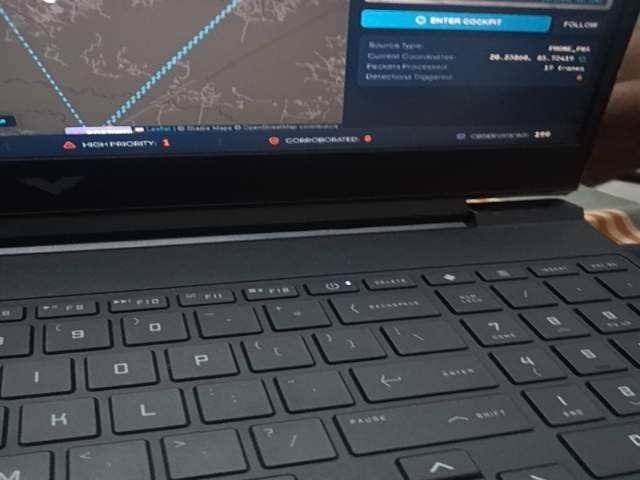pothole: (103, 403, 310, 480), (533, 403, 640, 480)
